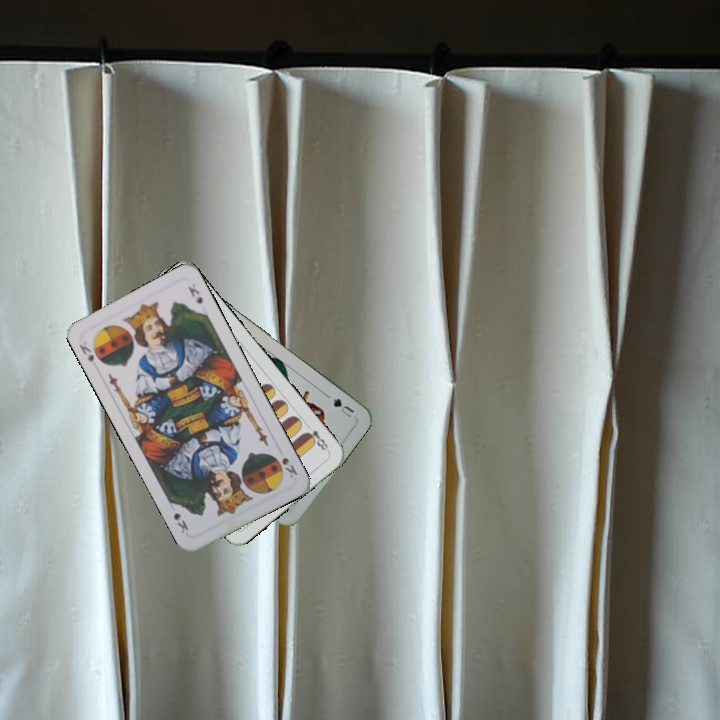E8: (301, 426, 332, 455)
GU: (328, 394, 357, 421)
SK: (278, 453, 300, 481), (75, 338, 97, 364)
